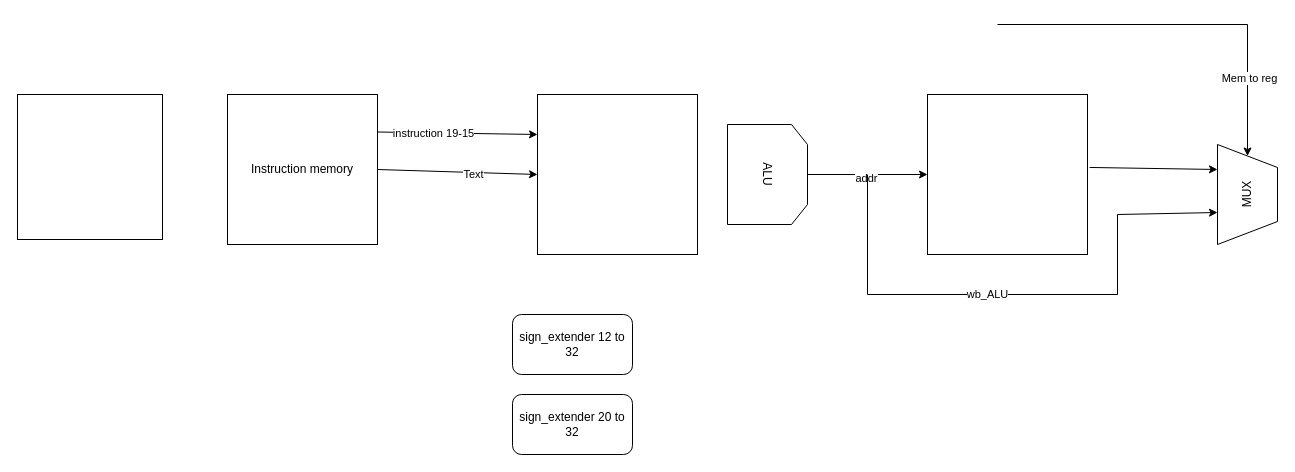
Some shapes in this 1295 by 472 pixel diagram are drawn without their labels. The shapes that lost their labels are listed below. From the top down, each one's box as (x1, y1, x2, y2) in pixels, then its label:
(16, 94, 162, 240): PC Counter
(536, 94, 698, 254): register file
(926, 94, 1088, 254): Memory
